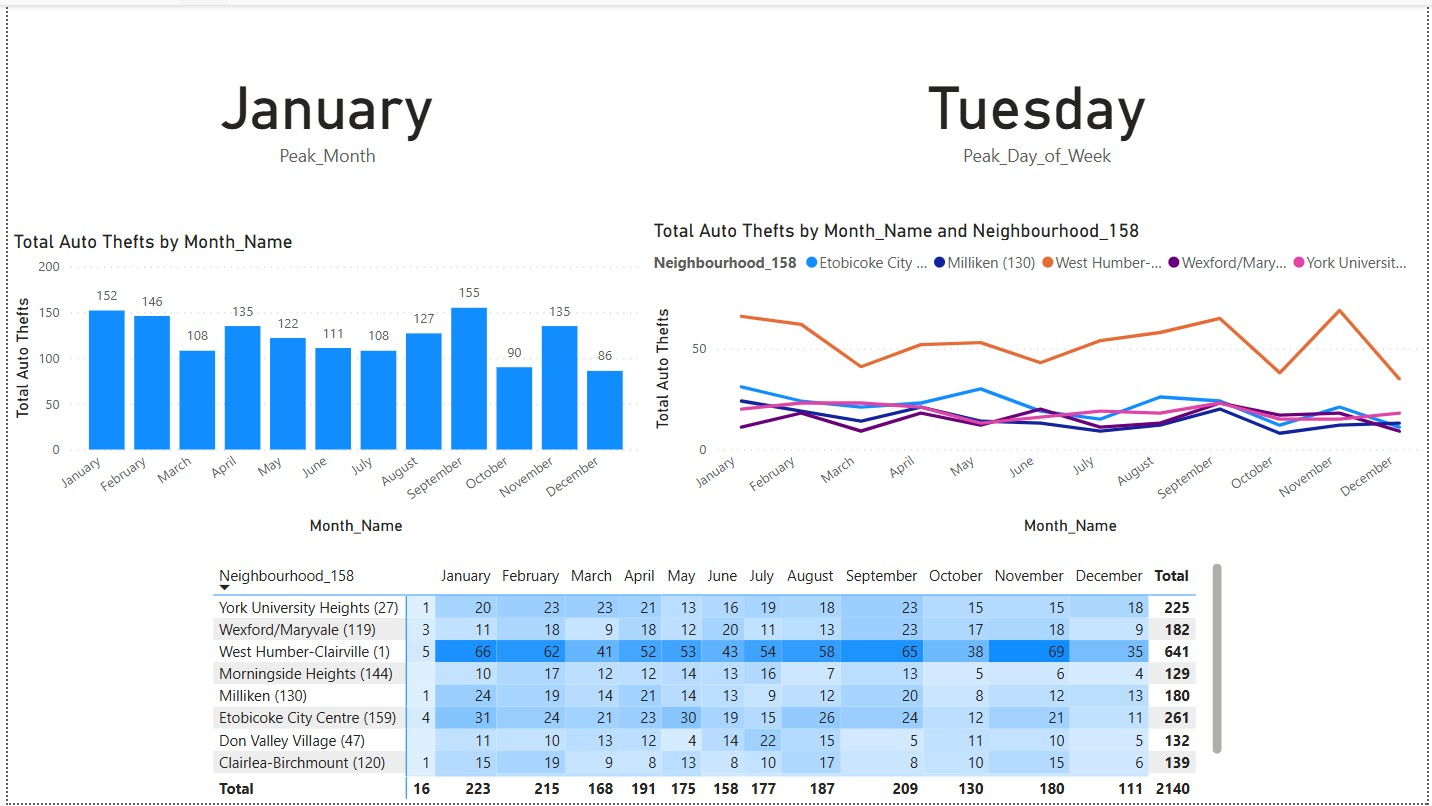

Layout of this report page (visuals, bound fields, positions):
{"tool":"powerbi","page":{"name":"How do auto theft patterns vary by month, day, and neighborhood in Toronto?","canvas":[1280,720],"ordinal":3},"visuals":[{"type":"columnChart","fields":{"Category":["Ultimate_Calender.Month_Name"],"Y":["Autotheft2024.Total Auto Thefts"]},"box":[0,203,576.2,279.9],"z":0},{"type":"lineChart","fields":{"Category":["Ultimate_Calender.Month_Name"],"Y":["Autotheft2024.Total Auto Thefts"],"Series":["Dim_Neighbourhood.Neighbourhood_158"]},"box":[576.5,192.6,704.1,289.6],"z":1000},{"type":"pivotTable","fields":{"Rows":["Dim_Neighbourhood.Neighbourhood_158"],"Columns":["Ultimate_Calender.Month_Name"],"Values":["CountNonNull(Autotheft2024.Object_ID)"]},"box":[180,497.6,919,222.4],"z":2000},{"type":"actionButton","box":[0,0,100,40],"z":3000},{"type":"card","fields":{"Values":["Autotheft2024.Peak_Month"]},"box":[0,0,576.2,193.1],"z":4000},{"type":"card","title":"Percentage change ","fields":{"Values":["Autotheft2024.Peak_Day_of_Week"]},"box":[576,0,704,193],"z":5000}]}

Visuals, with their boxes in screenshot pixels (x1, y1, x2, y2), scaled from the page's 1280x720 canvas onto the 1432x806 screenshot:
columnChart - Ultimate_Calender.Month_Name x Autotheft2024.Total Auto Thefts: [left=0, top=227, right=645, bottom=541]
lineChart - Ultimate_Calender.Month_Name x Autotheft2024.Total Auto Thefts: [left=645, top=216, right=1431, bottom=540]
pivotTable - Dim_Neighbourhood.Neighbourhood_158 x Ultimate_Calender.Month_Name: [left=201, top=557, right=1230, bottom=805]
actionButton: [left=0, top=0, right=112, bottom=45]
card - Autotheft2024.Peak_Month: [left=0, top=0, right=645, bottom=216]
"Percentage change " card: [left=644, top=0, right=1431, bottom=216]
